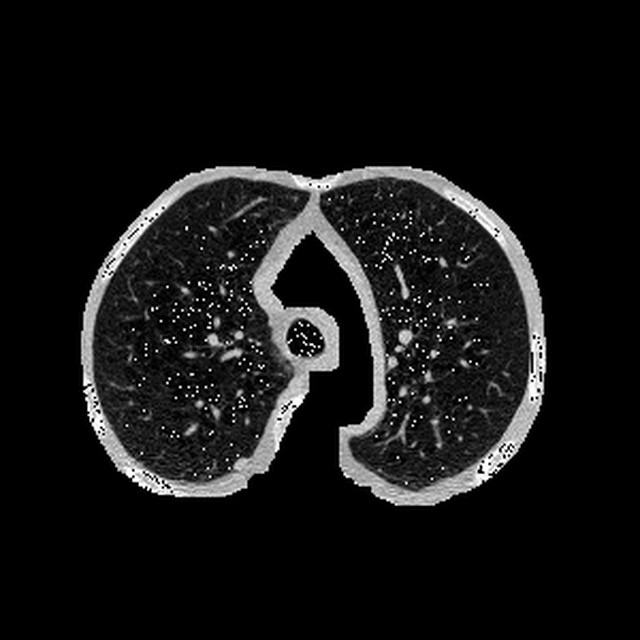PN: (233, 457, 245, 469)
